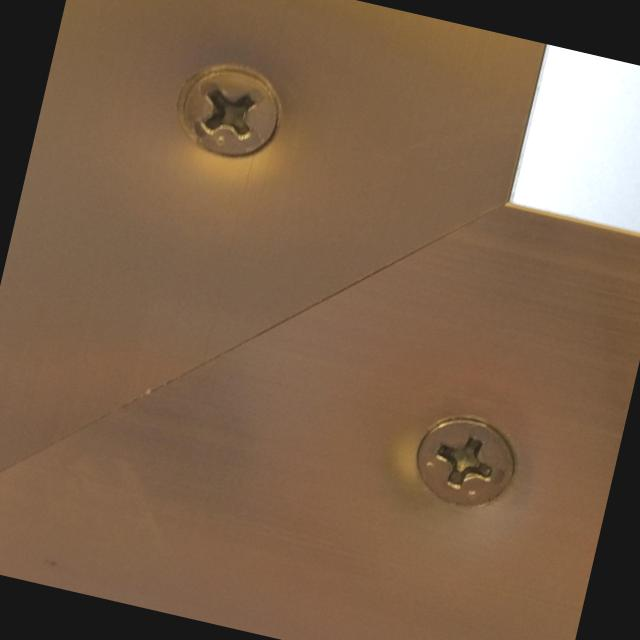Phillips: (396, 402, 528, 524), (154, 56, 289, 162)
